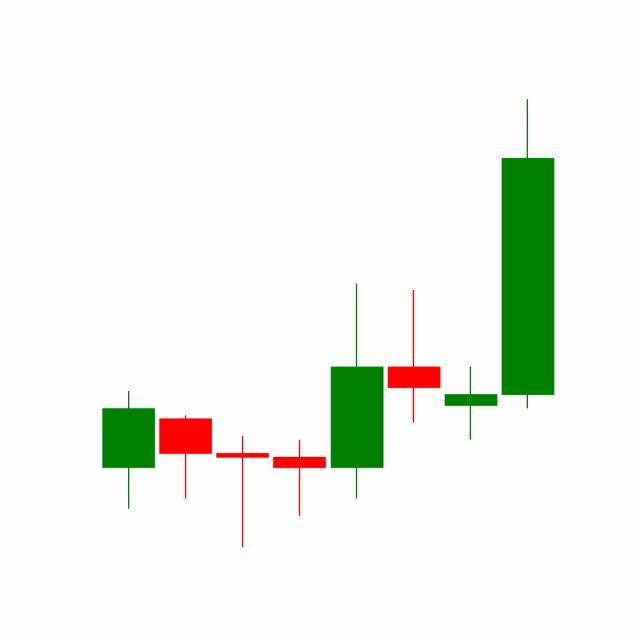Hikkake Pattern: (270, 100, 555, 522)
